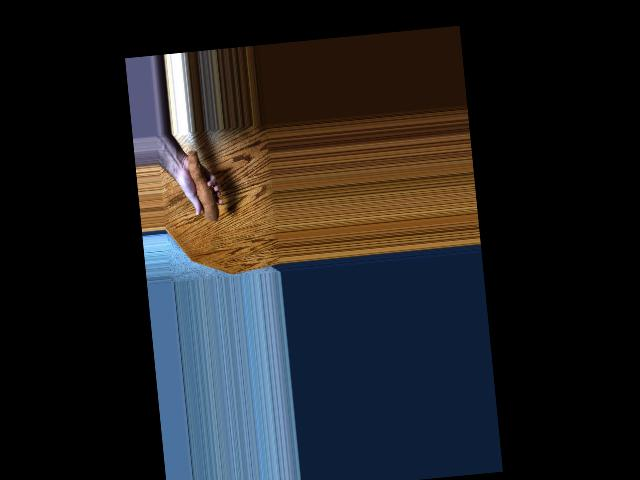sweet_potato: (186, 150, 220, 225)
